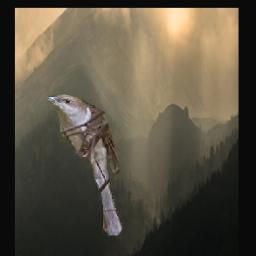Cuckoo: (45, 94, 123, 235)
